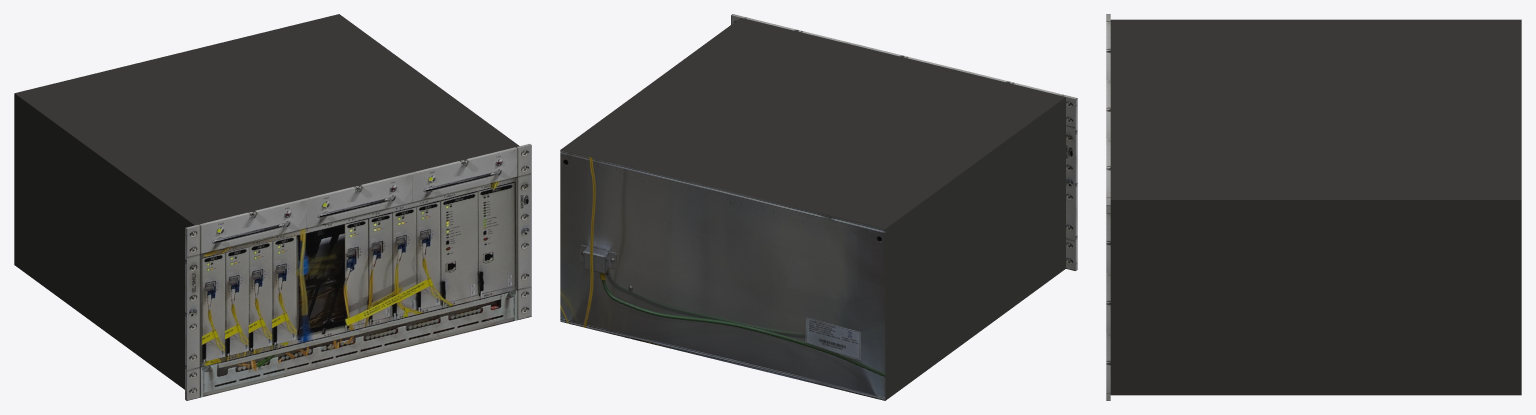
File: UTRANS-7320.fbx
3 renders of one model, left to right at view 1: azimuth 30°, elevation 25°; view 2: azimuth 150°, elevation 25°; view 3: azimuth 270°, elevation 25°, orthographic. The views are drawn at different scales.
Parts seen in each view (by area): view 1: UTRANS-7320; view 2: UTRANS-7320; view 3: UTRANS-7320.
Boxes of the visible parts, x1,y1,x2,y2 form: UTRANS-7320: (14, 14, 531, 400); UTRANS-7320: (560, 14, 1077, 400); UTRANS-7320: (1106, 14, 1521, 400).
Bounding box in the file's own units: 560 × 267 × 513.
3 materials, 2 textured.
